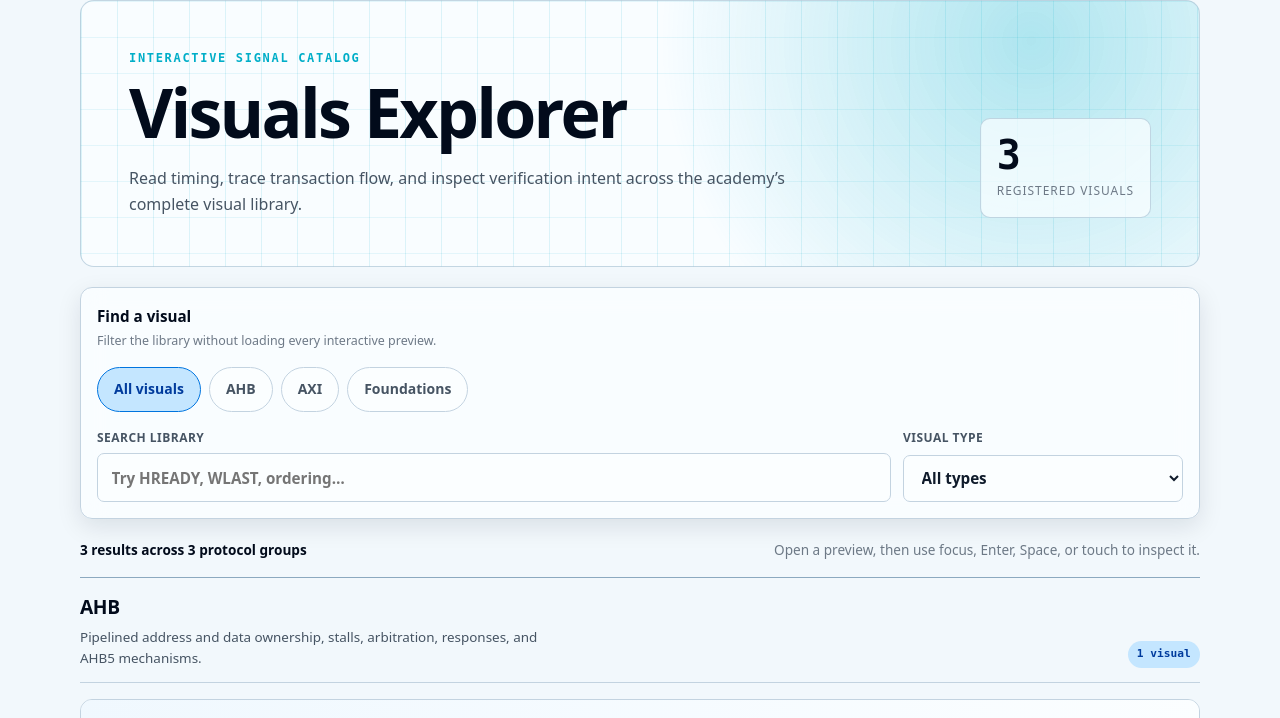
Test case: Visuals Explorer › filters by protocol and search query
Step 1. Click the button "AXI" → (310, 389), box [281,367,339,412]
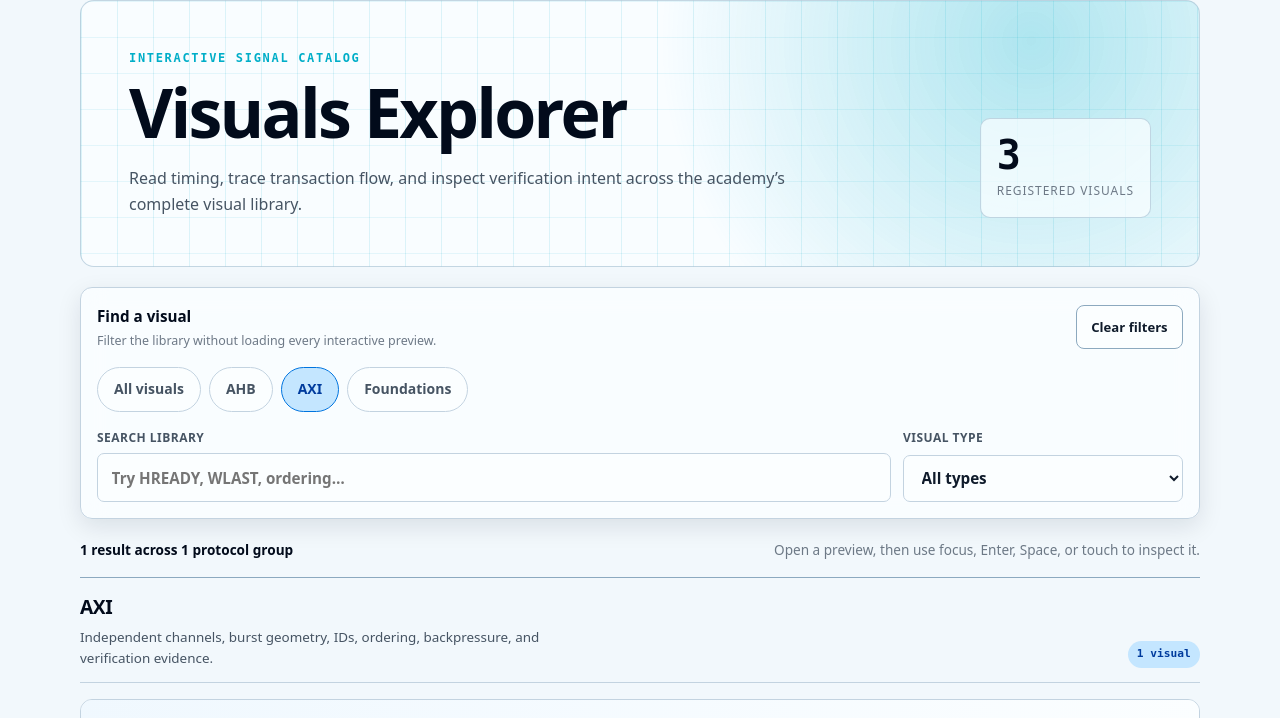
Expected: the header "AHB Reset Sequence" is not shown
Step 2. Type "no-match" into the search field labelled "Search library" → (494, 478), box [97,454,891,502]
(page scrolled)
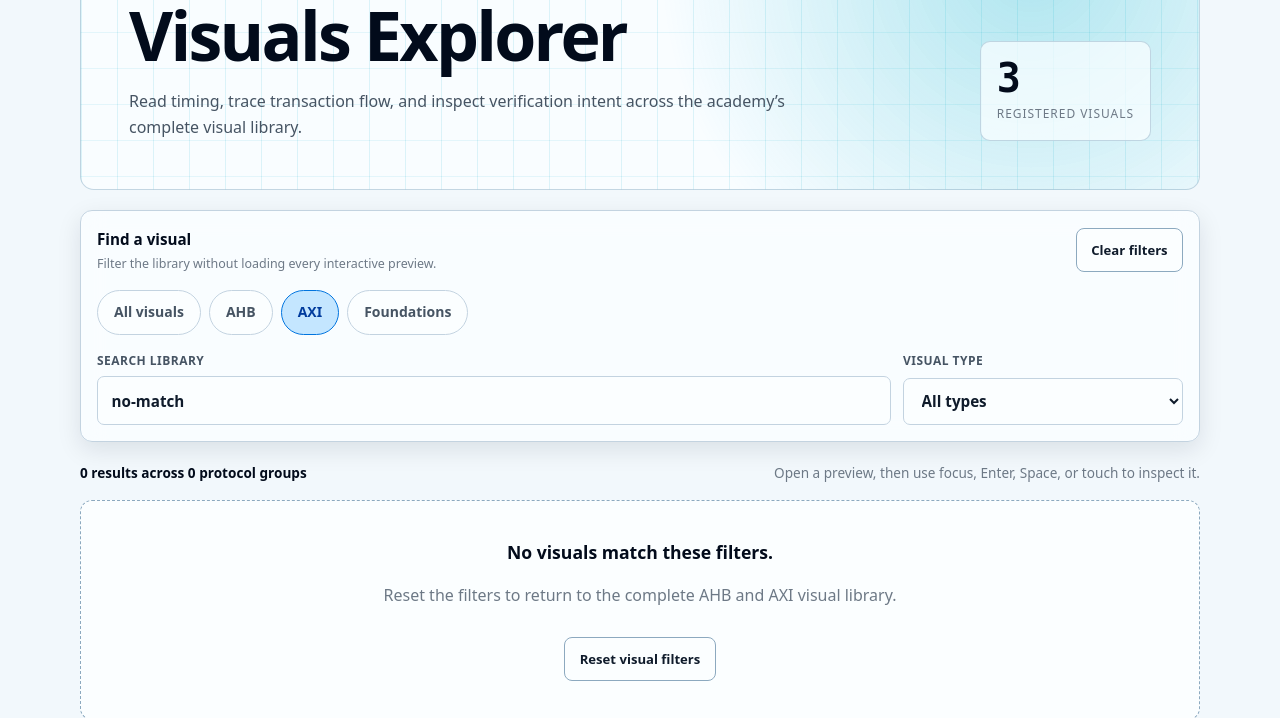
Now the message shows "No visuals match these filters", box [507,540,773,564]
Step 3. Click the button "Reset visual filters" → (640, 659), box [564,637,716,681]
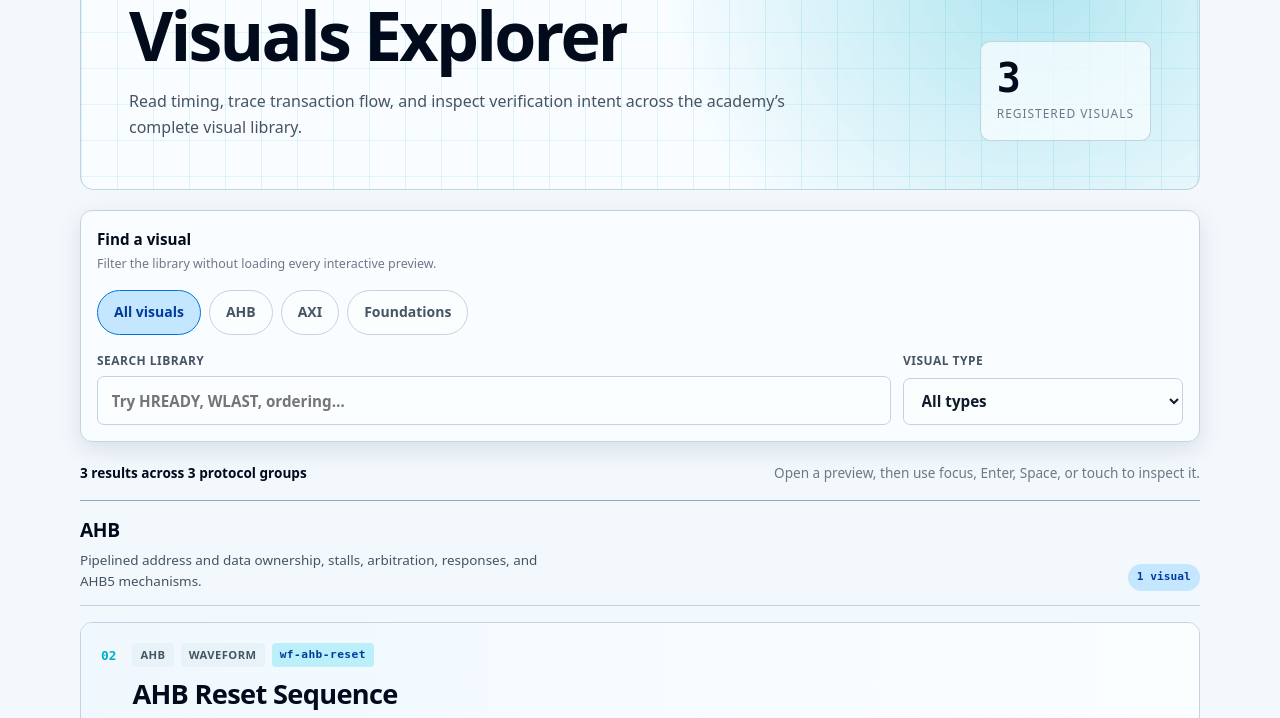
Expected: the element labelled "3 registered visuals" is shown, [980,41,1151,141]
Now the heading "AHB Reset Sequence" is shown, box [132,675,398,712]
